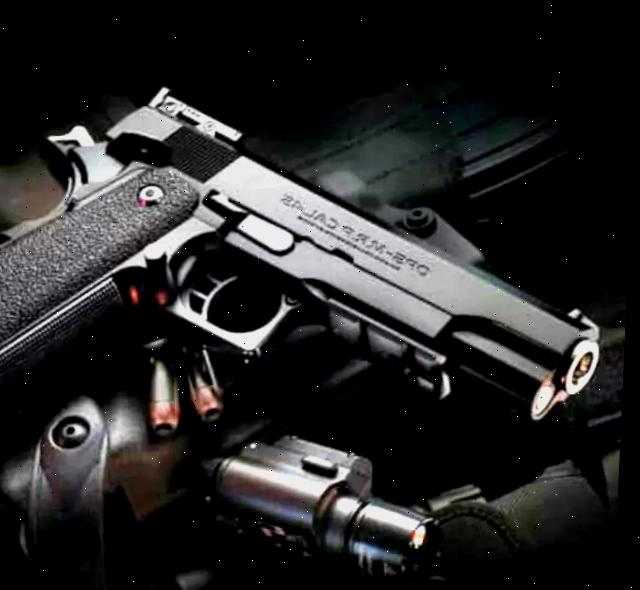pistol: (0, 67, 617, 442)
